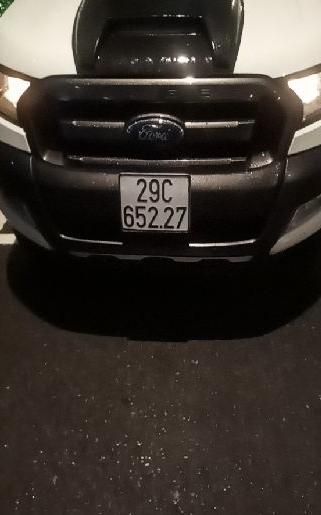Plate-iWeP: (120, 177, 189, 229)
